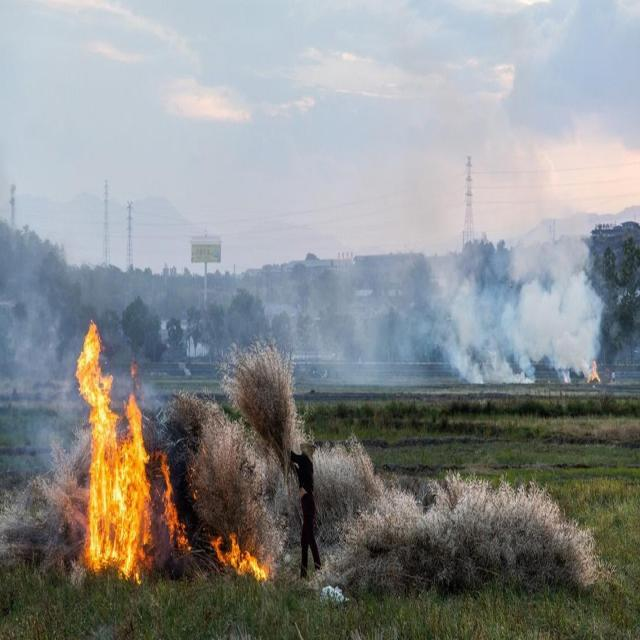Fire: (76, 317, 148, 582), (212, 529, 266, 578), (160, 448, 186, 546)
Smoke: (428, 223, 604, 390)
